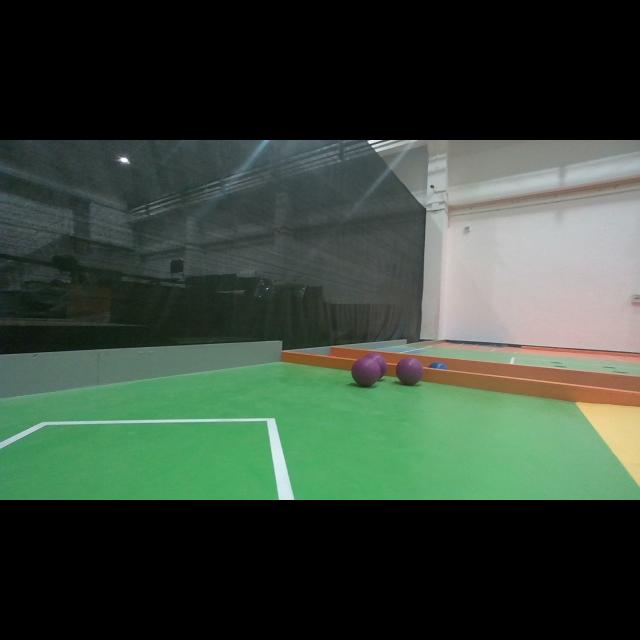P: (352, 358, 381, 387), (396, 358, 422, 384)
